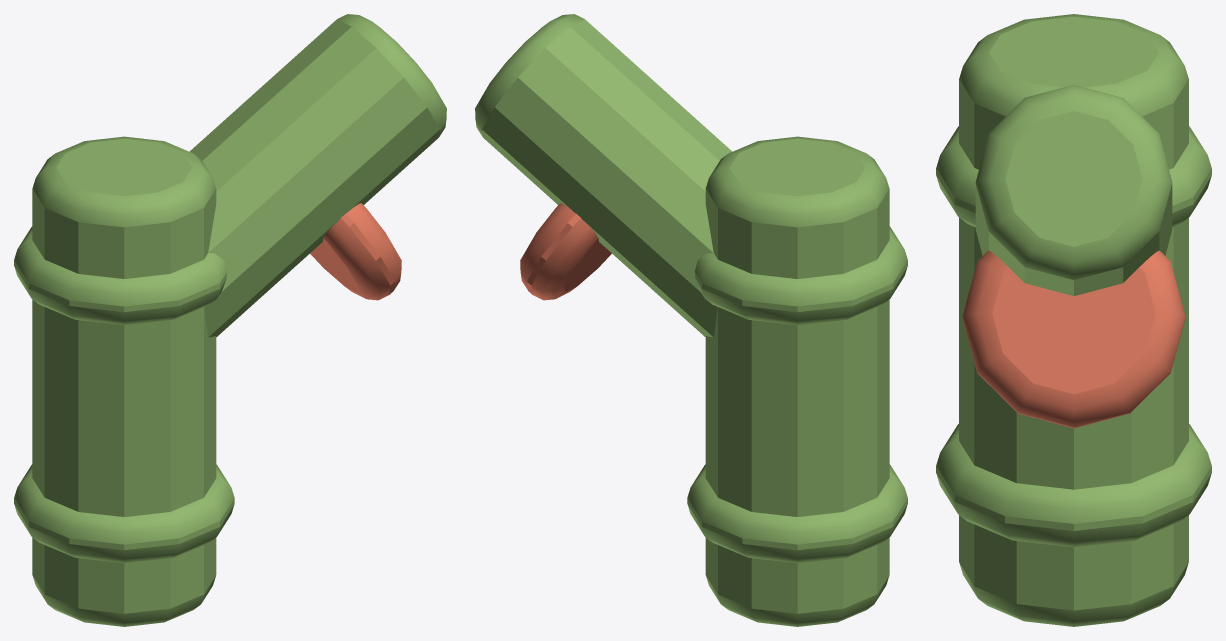
File: source.glb
3 renders of one model, left to right at view 1: azimuth 30°, elevation 25°; view 2: azimuth 150°, elevation 25°; view 3: azimuth 270°, elevation 25°, orthographic. The views are drawn at different scales.
Parts seen in each view (by area): view 1: node_low; view 2: node_low; view 3: node_low.
Boxes of the visible parts, <box> form: node_low: <box>14,14,446,626</box>; node_low: <box>475,14,907,626</box>; node_low: <box>936,14,1211,626</box>.
Size of the model in its own units: 0.5557 by 0.6786 by 0.2625.
